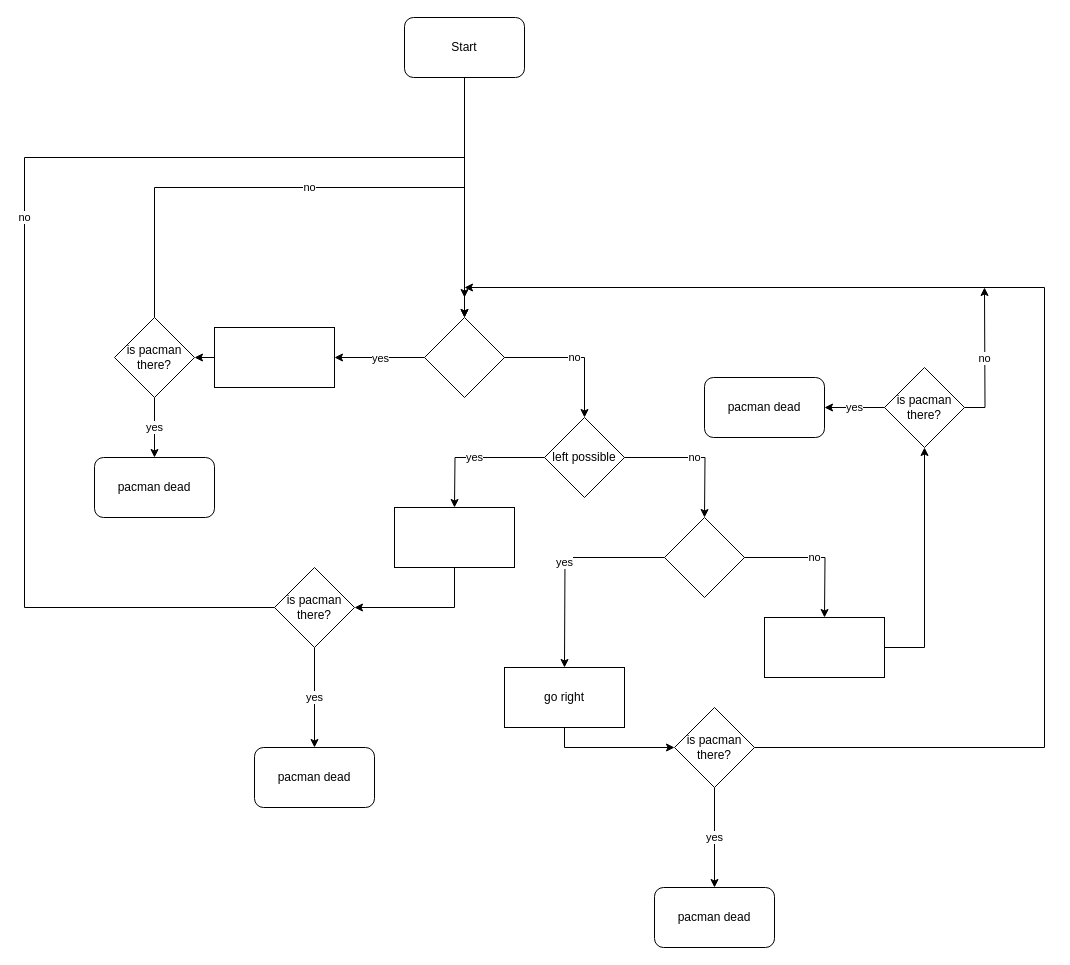
The diagram is 1070 pixels wide and 965 high, and some of its shapes have lost their labels. Each missing label, with the centre of its shape:
"go left" goes at point 454,537.
"go straight" goes at point 274,357.
"right possible" goes at point 704,557.
"Straight possible" goes at point 464,357.
"turn back" goes at point 824,647.
